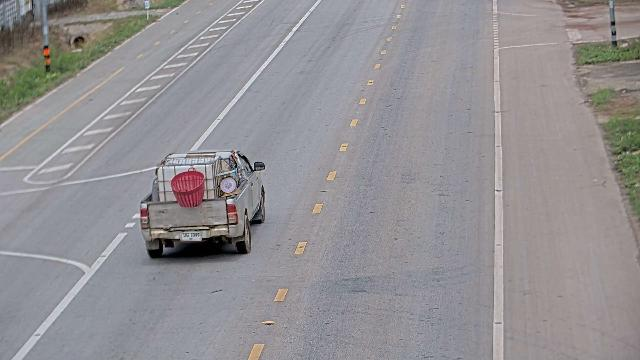pickup-truck: (139, 149, 266, 258)
